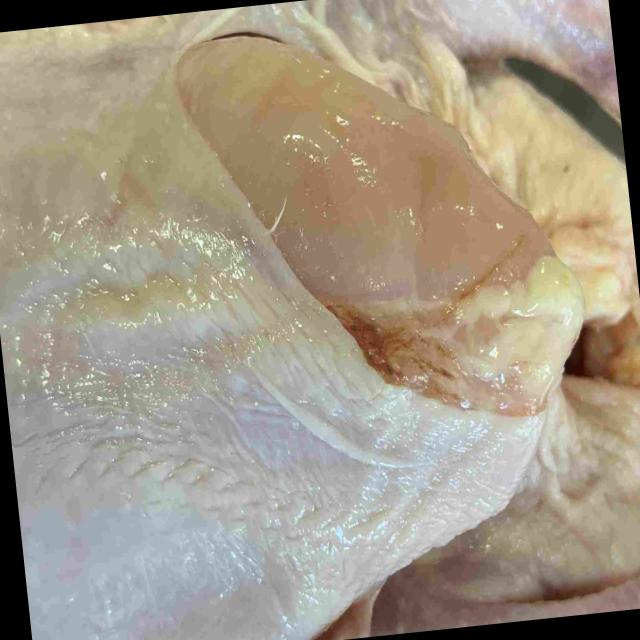breast: (0, 39, 563, 640)
leg: (239, 0, 620, 114)
